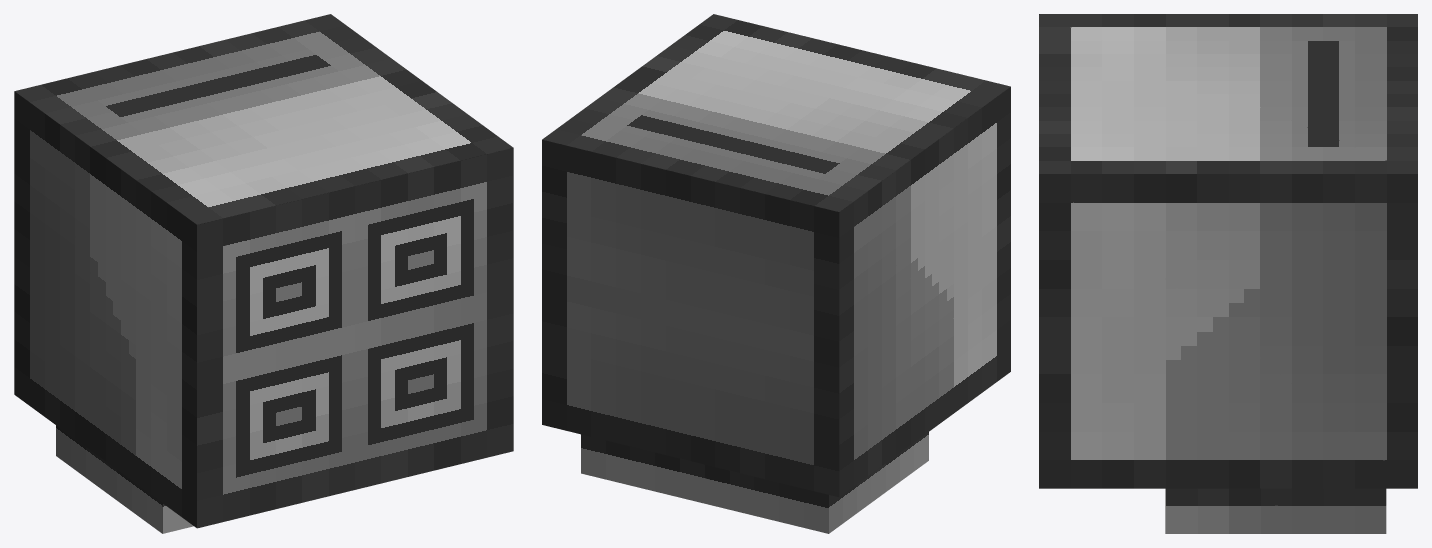
The model's file is CCTurtle.glb.
3 renders of one model, left to right at view 1: azimuth 30°, elevation 25°; view 2: azimuth 150°, elevation 25°; view 3: azimuth 270°, elevation 25°, orthographic. The views are drawn at different scales.
Visible parts, largest first — view 1: Cube; view 2: Cube; view 3: Cube.
Boxes of the visible parts, box(x1,y1,x2,y2) form: Cube: box(14, 14, 513, 533); Cube: box(542, 14, 1010, 533); Cube: box(1039, 14, 1417, 533).
Bounding box in the file's own units: 0.75 × 0.8155 × 0.75.
Materials: 1 (1 with a texture image).
